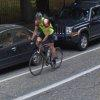Bicycle: (25, 35, 68, 78)
